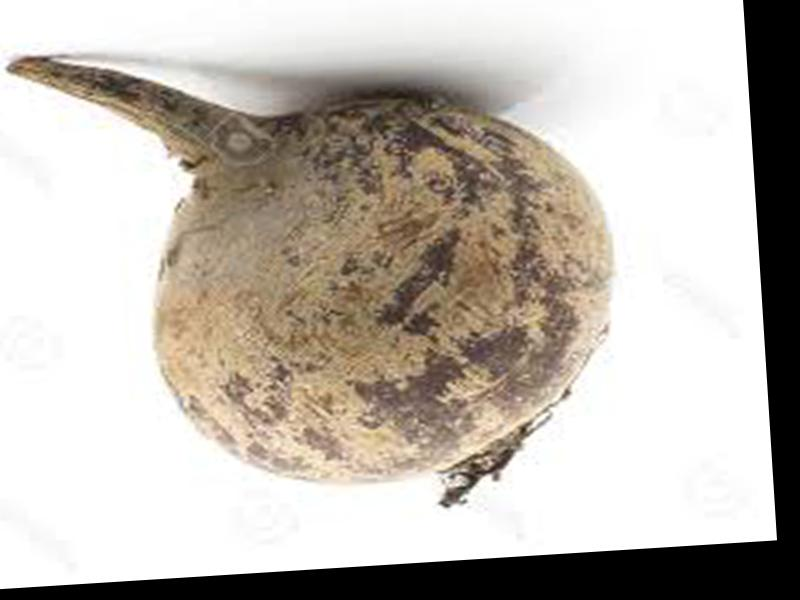Beet: (10, 23, 629, 532)
